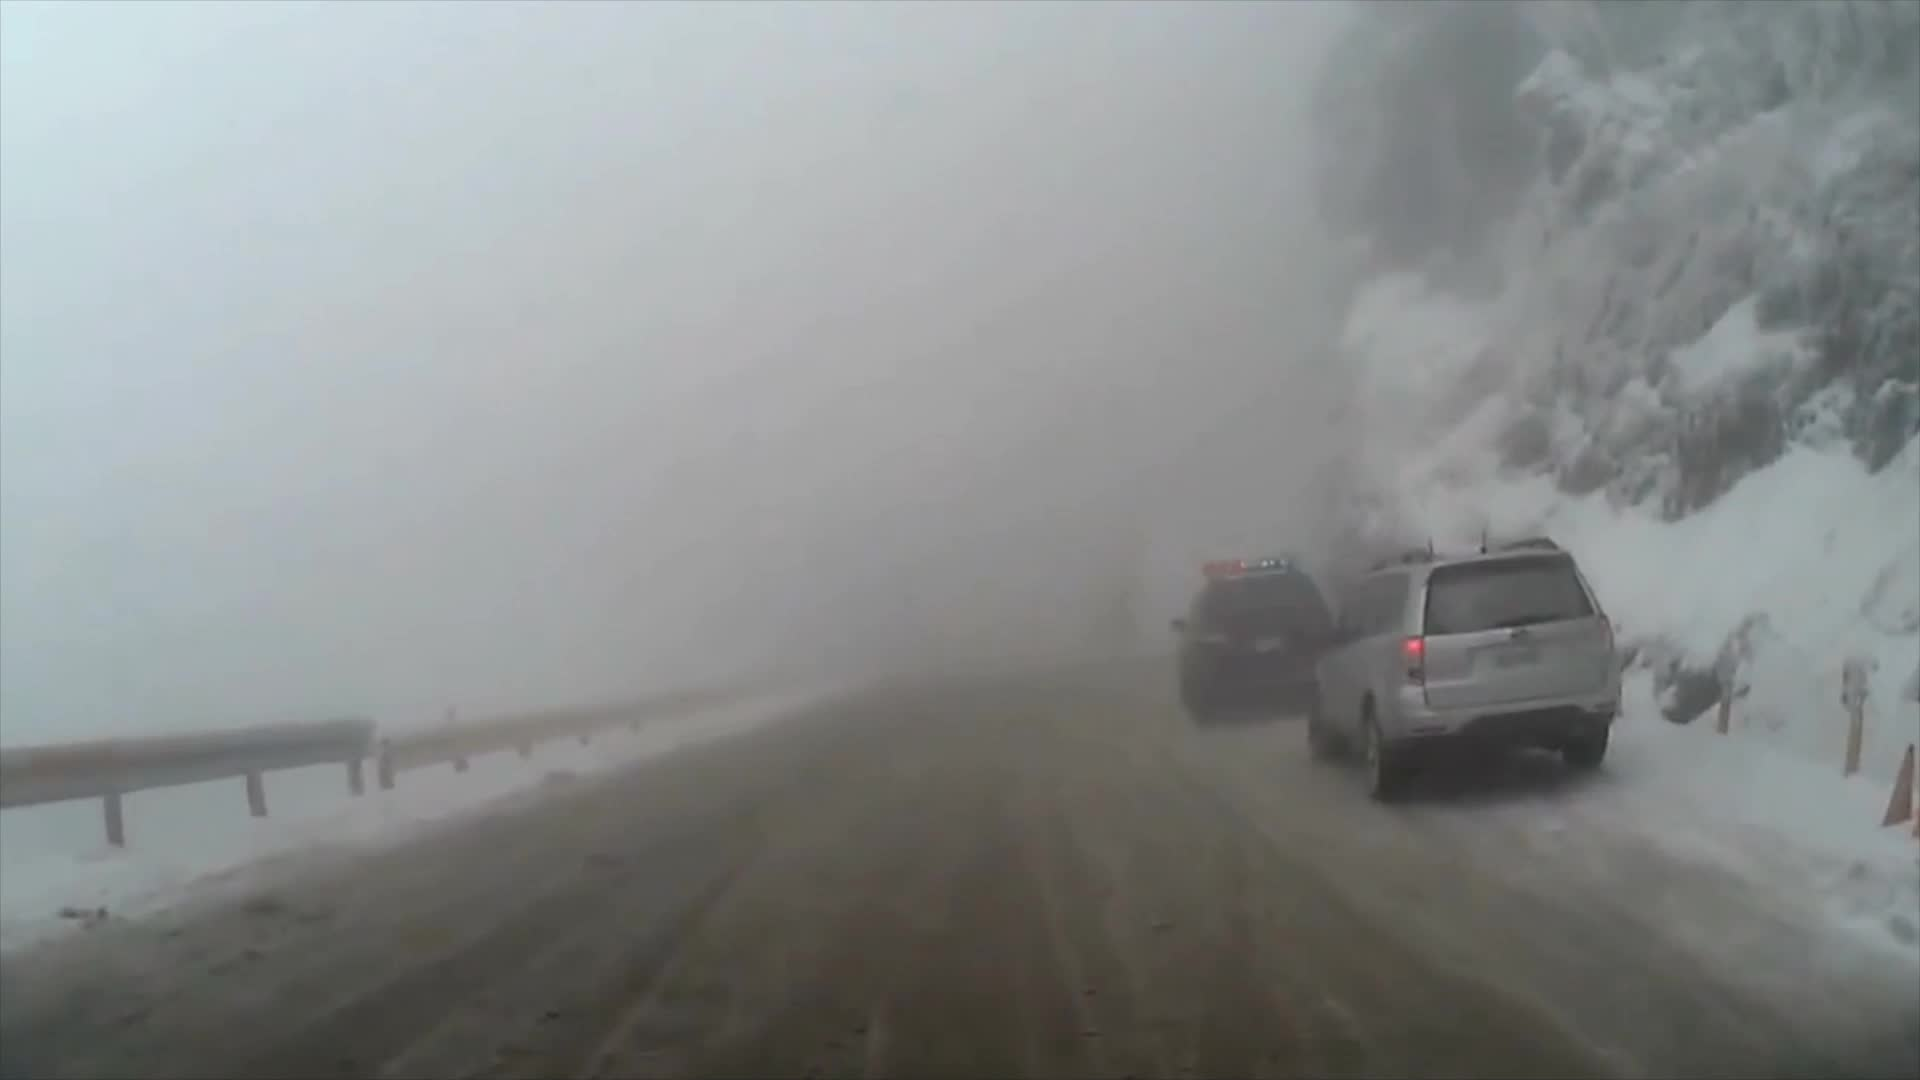vehicle: (1305, 535, 1625, 806), (1168, 553, 1340, 725)
